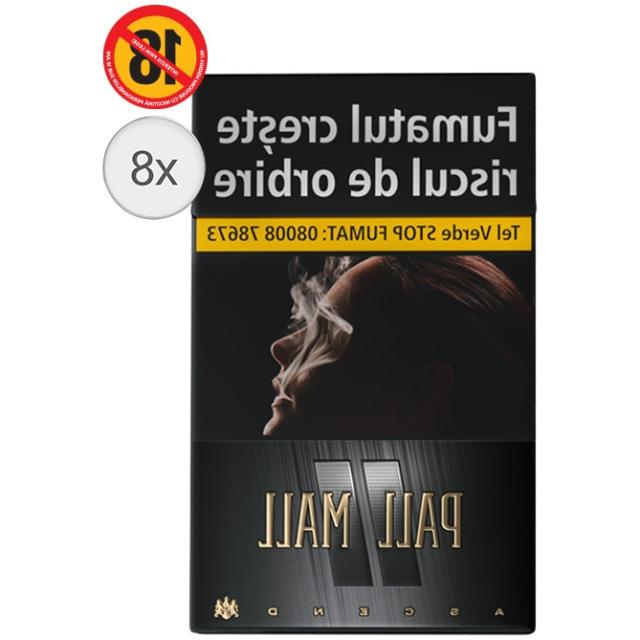pallmall: (182, 59, 546, 638)
